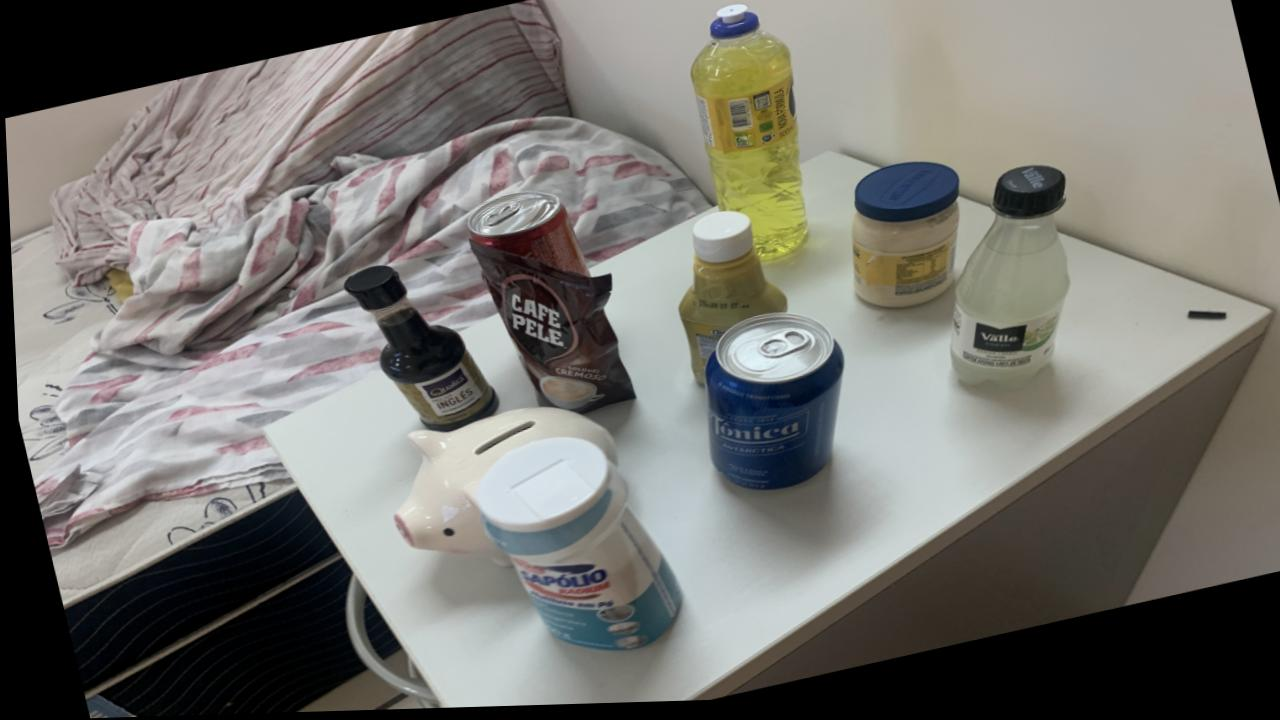Cleaner-Cleanup_Items: (471, 439, 676, 654)
Coffee-Pantry_Items: (467, 244, 629, 415)
Coke-Drinks: (465, 193, 586, 280)
Detergent-Cleanup_Items: (689, 9, 806, 264)
English_Sauce-Pantry_Items: (341, 267, 494, 434)
Mayonnaise-Pantry_Items: (848, 167, 957, 313)
Mustard-Pantry_Items: (675, 215, 784, 387)
Pig_Safe-Miscellaneous: (388, 409, 613, 569)
Soda-Drinks: (947, 171, 1067, 390)
Tonic-Drinks: (700, 317, 841, 494)
